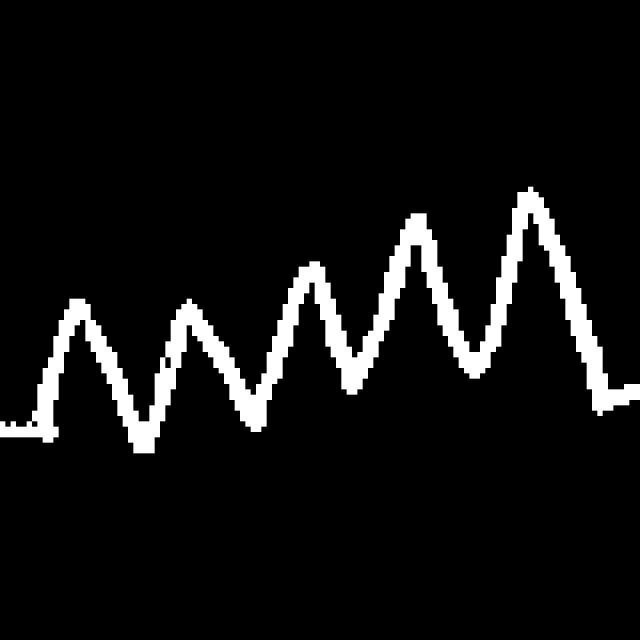resistor: (31, 172, 622, 466)
